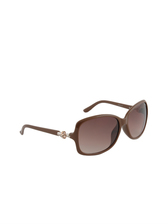glasses: (16, 91, 151, 154)
